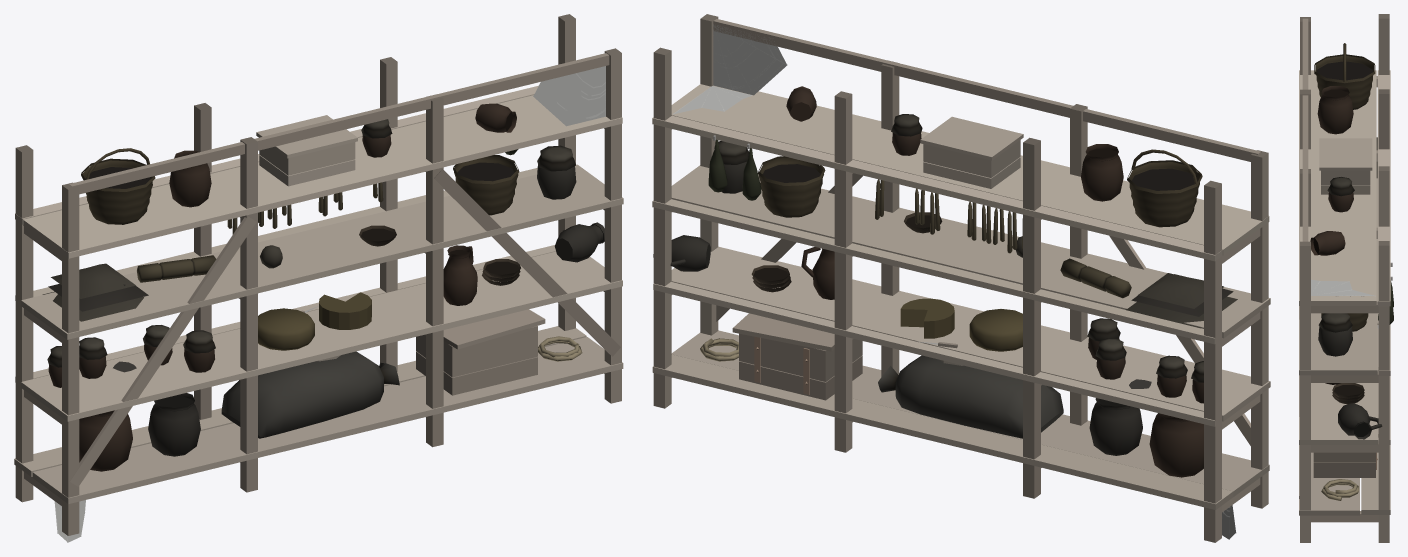
Rendered from prop_shelves.glb.
3 views of the same model, side by side, from view 1: azimuth 30°, elevation 25°; view 2: azimuth 150°, elevation 25°; view 3: azimuth 270°, elevation 25° (orthographic). The views are drawn at different scales.
Visible parts, largest first — view 1: Shelves, ShelvesSoft; view 2: Shelves, ShelvesSoft; view 3: Shelves, ShelvesSoft.
Part boxes in pixels (bbox=[...]): Shelves: bbox=[14, 14, 623, 542]; ShelvesSoft: bbox=[42, 103, 604, 471]; Shelves: bbox=[652, 14, 1270, 542]; ShelvesSoft: bbox=[653, 86, 1237, 477]; Shelves: bbox=[1299, 14, 1392, 542]; ShelvesSoft: bbox=[1310, 43, 1393, 500].
Bounding box in the file's own units: 3.08 × 1.93 × 0.5183.
